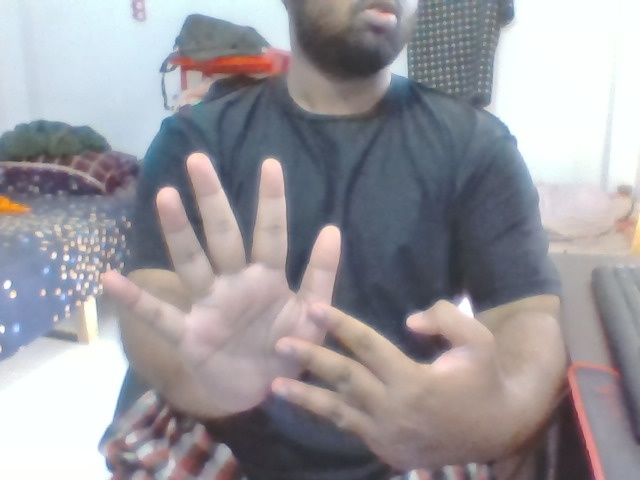M: (93, 144, 513, 480)
